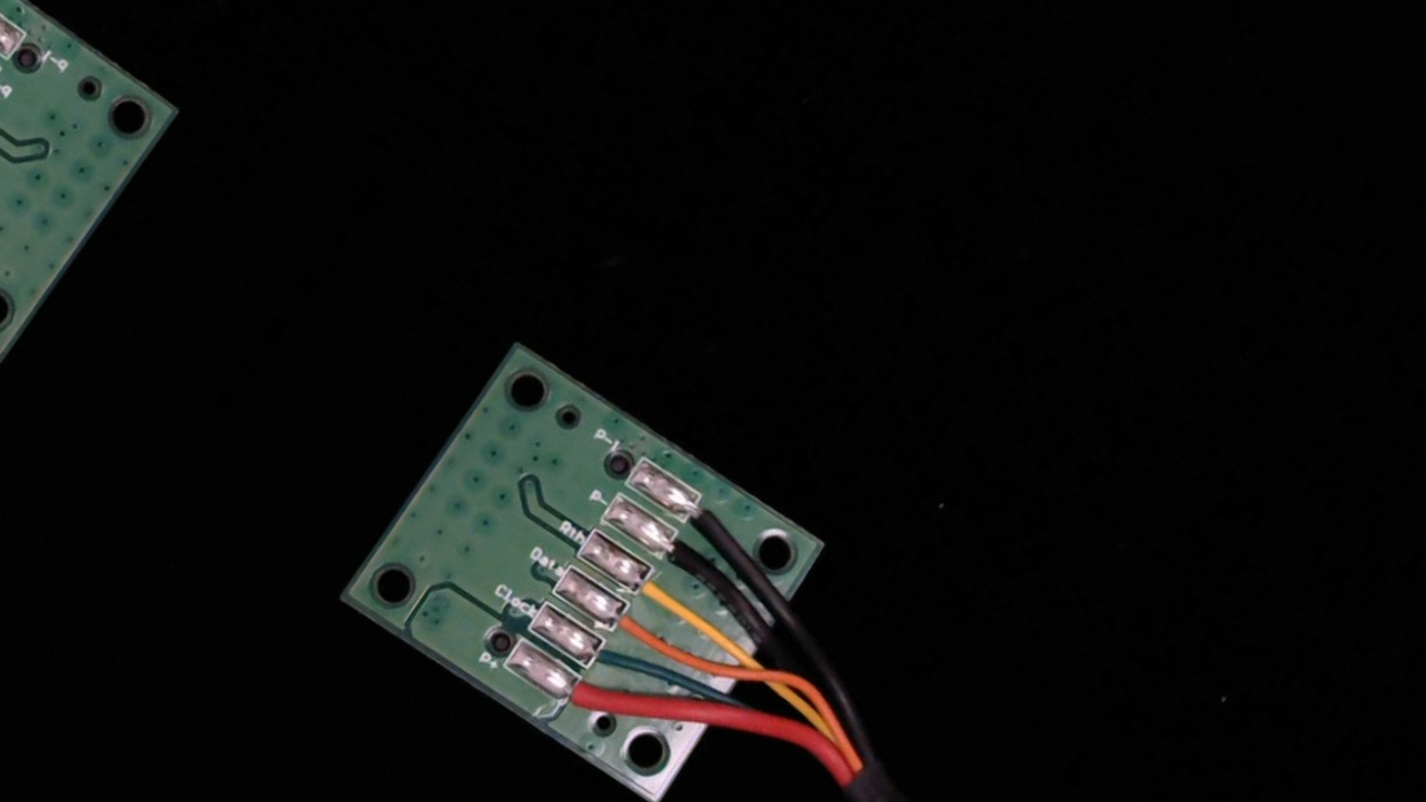Black: (639, 520, 730, 599)
Black1: (668, 484, 752, 558)
Green: (568, 626, 641, 692)
Orange: (593, 592, 674, 662)
Red: (541, 658, 628, 735)
Yellow: (616, 557, 708, 637)
